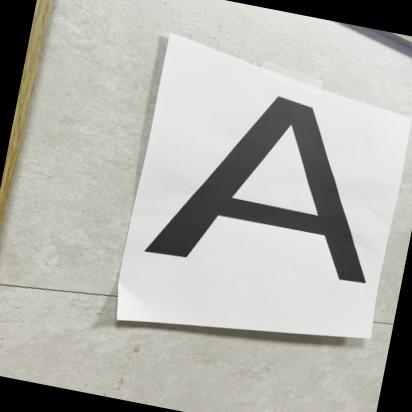seat: (130, 65, 404, 298)
